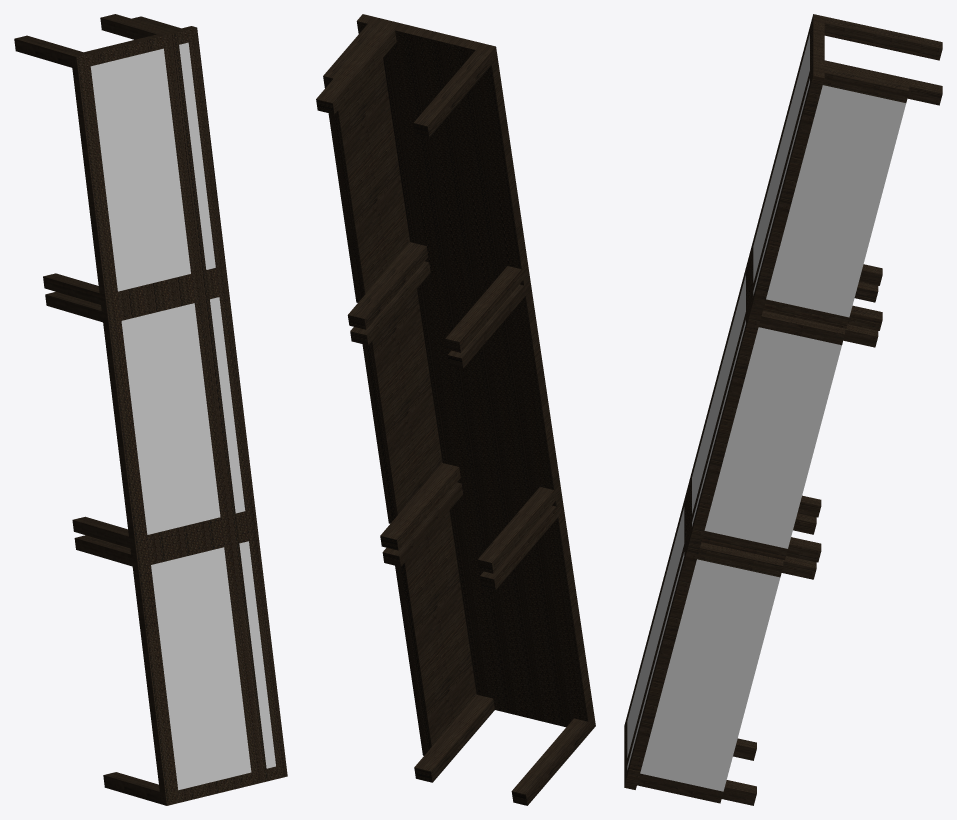
Rendered from Table_3D.obj.
3 views of the same model, side by side, from view 1: azimuth 30°, elevation 25°; view 2: azimuth 150°, elevation 25°; view 3: azimuth 270°, elevation 25° (orthographic). The views are drawn at different scales.
Parts seen in each view (by area): view 1: Object.1; view 2: Object.1; view 3: Object.1.
Part boxes in pixels (x1=…): Object.1: x1=14, y1=14, x2=287, y2=805; Object.1: x1=316, y1=14, x2=595, y2=805; Object.1: x1=624, y1=14, x2=942, y2=805.
Size of the model in its own units: 12 by 67.3 by 26.23.
